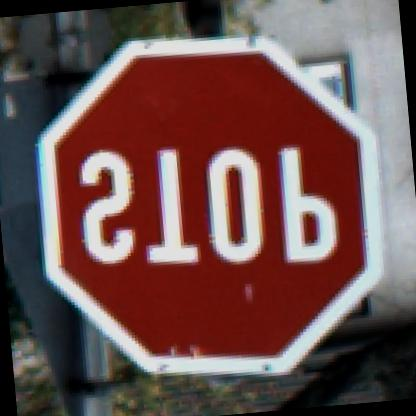stop: (3, 18, 414, 398)
